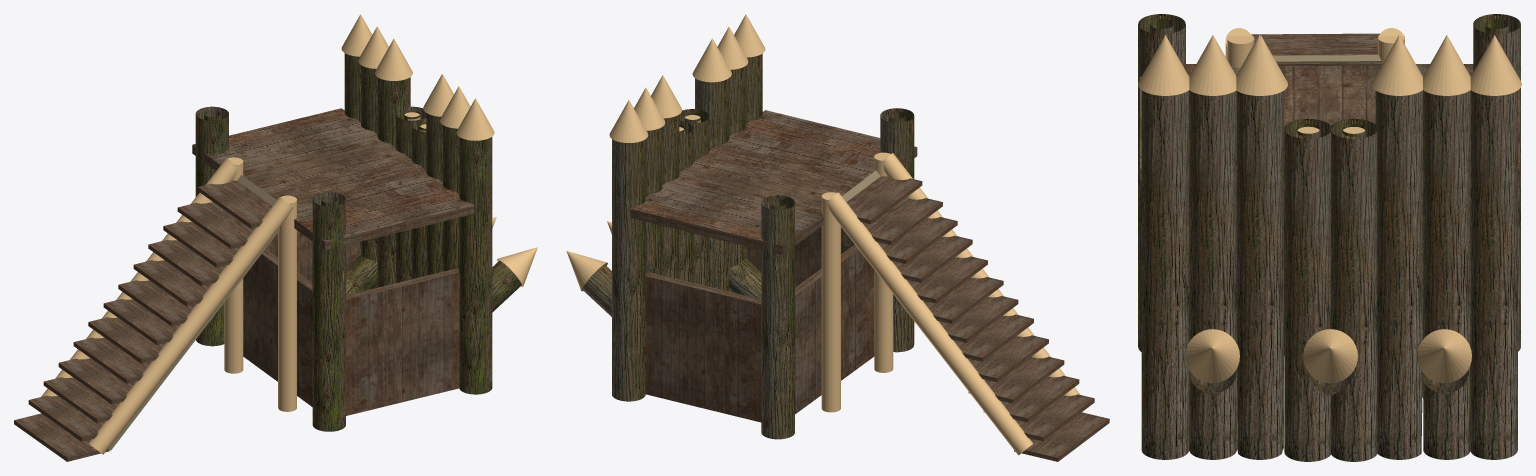
File: PalisadeWallForStair.fbx
3 renders of one model, left to right at view 1: azimuth 30°, elevation 25°; view 2: azimuth 150°, elevation 25°; view 3: azimuth 270°, elevation 25°, orthographic. The views are drawn at different scales.
Parts seen in each view (by area): view 1: PalisadeFloor.020, PalisadeFloor.018, PalisadeFloor.001, PointStick.007, RoundStick.009, RoundStick.003, PalisadeFloor.004, PalisadeFloor.019, RoundStick.023, RoundStick.006, PointStick.005, RoundStick.024 (+42 smaller); view 2: PalisadeFloor.020, PalisadeFloor.017, PalisadeFloor.001, PointStick.003, RoundStick.024, PalisadeFloor.006, RoundStick.001, PalisadeFloor.002, RoundStick.025, RoundStick.004, PointStick.015, RoundStick.006 (+41 smaller); view 3: PointStick.017, PointStick.005, PointStick.015, PointStick.004, PointStick.003, RoundStick.018, PointStick.016, RoundStick.019, RoundStick.007, PointStick.010, PointStick.018, RoundStick.005 (+31 smaller).
Part boxes in pixels (x1,y1,x2,y2): PalisadeFloor.020: (192,140,473,250); PalisadeFloor.018: (346,277,428,415); PalisadeFloor.001: (193,108,474,250); PointStick.007: (460,138,492,394); RoundStick.009: (312,193,345,431); RoundStick.003: (88,197,293,454); PalisadeFloor.004: (360,268,459,400); PalisadeFloor.019: (243,249,312,406); RoundStick.023: (278,195,296,411); RoundStick.006: (312,192,345,428); PointStick.005: (377,77,410,287); RoundStick.024: (195,106,228,345); PalisadeFloor.020: (630,110,916,254); PalisadeFloor.017: (645,276,761,409); PalisadeFloor.001: (630,147,917,254); PointStick.003: (612,139,644,401); RoundStick.024: (761,195,794,439); PalisadeFloor.006: (645,272,761,422); RoundStick.001: (827,192,1033,455); PalisadeFloor.002: (795,244,874,380); RoundStick.025: (821,192,840,412); RoundStick.004: (761,195,794,436); PointStick.015: (695,78,728,291); RoundStick.006: (880,108,913,352); PointStick.017: (1141,90,1189,459); PointStick.005: (1375,90,1423,459); PointStick.015: (1236,91,1283,459); PointStick.004: (1423,90,1470,459); PointStick.003: (1470,90,1517,459); RoundStick.018: (1284,118,1331,461); PointStick.016: (1189,90,1236,459); RoundStick.019: (1330,118,1377,461); RoundStick.007: (1284,119,1331,461); PointStick.010: (1236,92,1283,459); PointStick.018: (1470,90,1510,459); RoundStick.005: (1330,121,1377,461).
Bounding box in the file's own units: 620 × 372 × 311.
